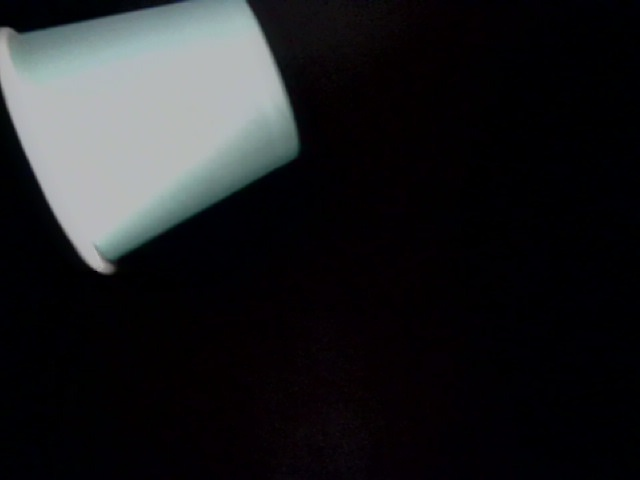CYLJ: (250, 407, 363, 480)
